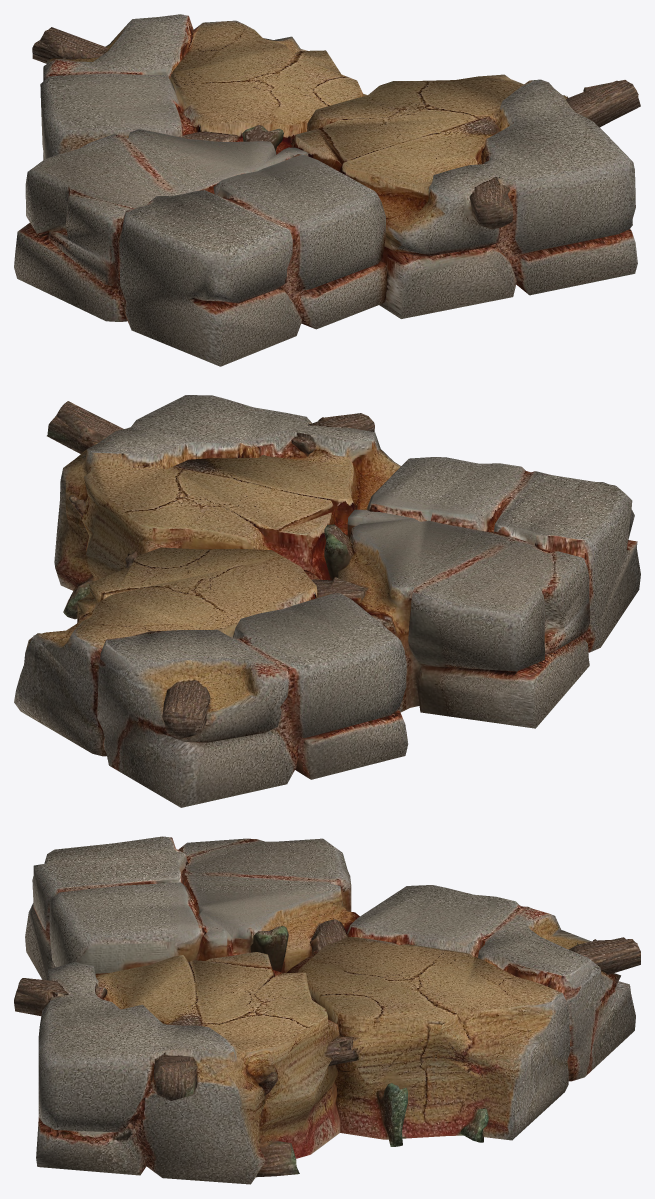
File: tripo_convert_e1dbb32a-c766-4250-ab17-3a22cecb3a65.fbx
3 views of the same model, one above another, from view 1: azimuth 30°, elevation 25°; view 2: azimuth 150°, elevation 25°; view 3: azimuth 270°, elevation 25° (orthographic). The views are drawn at different scales.
Parts seen in each view (by area): view 1: tripo_node_e1dbb32a; view 2: tripo_node_e1dbb32a; view 3: tripo_node_e1dbb32a.
Boxes of the visible parts, left/top/right/bottom form: tripo_node_e1dbb32a: left=14, top=14, right=640, bottom=366; tripo_node_e1dbb32a: left=14, top=395, right=640, bottom=807; tripo_node_e1dbb32a: left=14, top=836, right=640, bottom=1184.
Bounding box in the file's own units: 0.9785 × 0.2559 × 0.998.
Materials: 1 (1 with a texture image).
